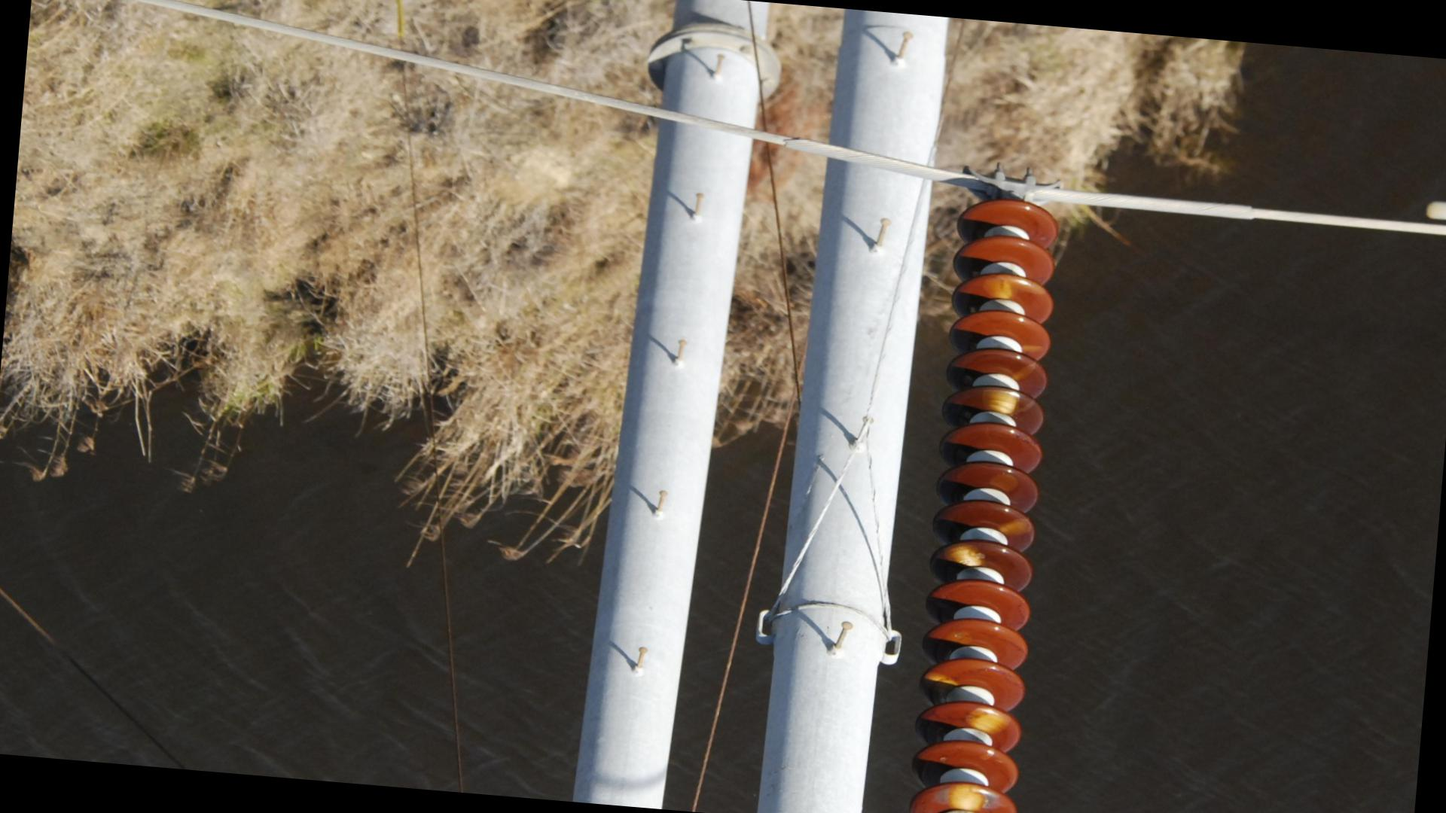damper: (1416, 188, 1446, 256)
